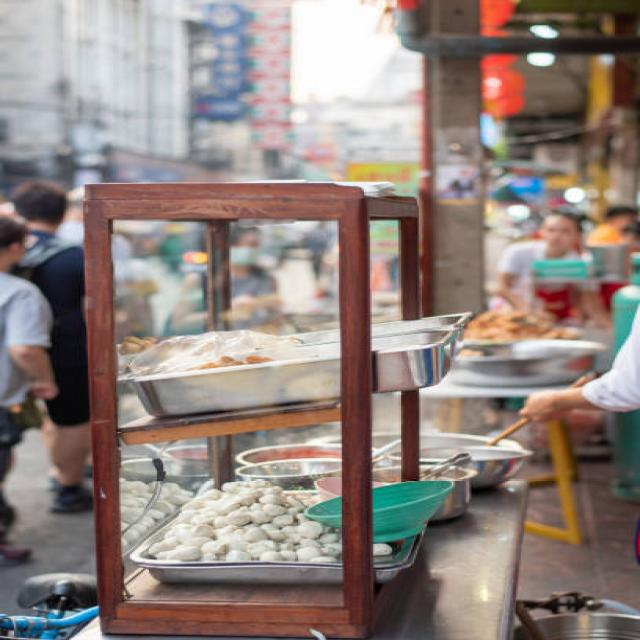Emperan: (74, 160, 596, 640)
